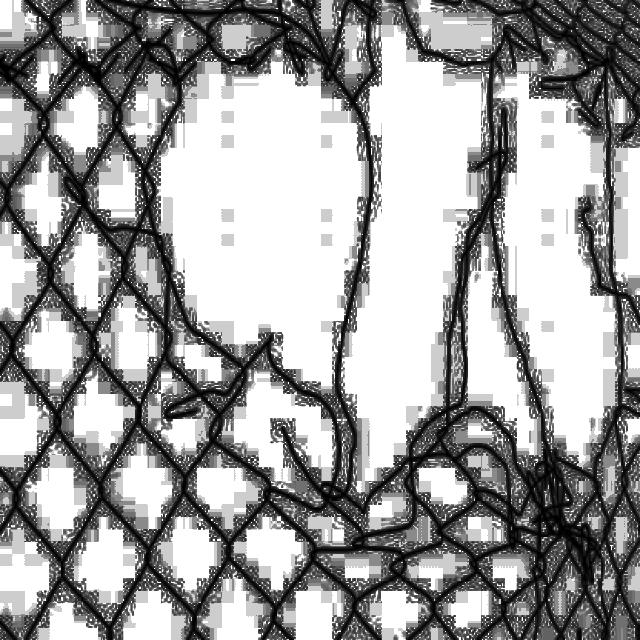anomaly-fence: (7, 0, 640, 558)
